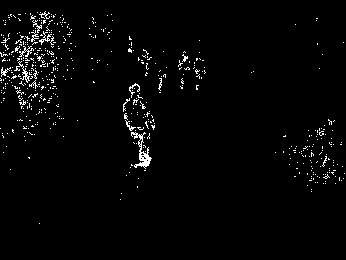person: (119, 82, 159, 173)
